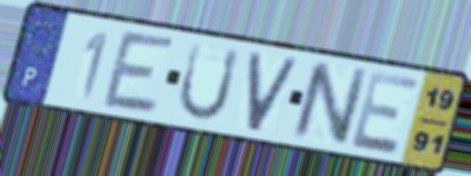1: (80, 31, 110, 100)
E: (99, 27, 179, 117), (347, 68, 424, 158)
N: (289, 58, 372, 148)
U: (174, 39, 244, 124)
V: (244, 49, 303, 135)
